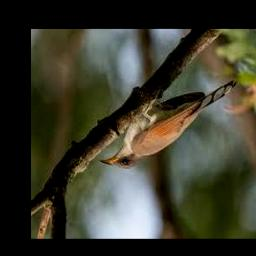Cuckoo: (99, 80, 236, 169)
